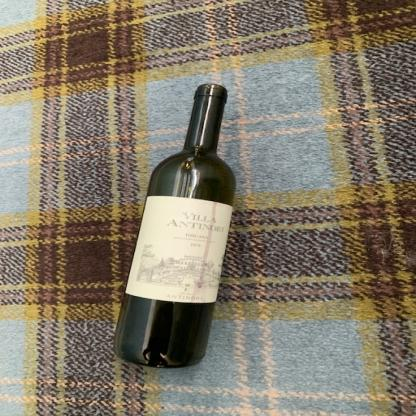trash: (112, 80, 238, 370)
